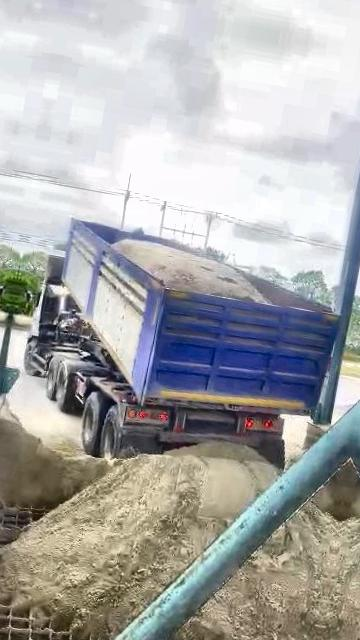sand: (0, 444, 277, 640), (176, 504, 338, 640), (0, 409, 112, 507), (113, 239, 266, 303), (314, 460, 350, 520)
